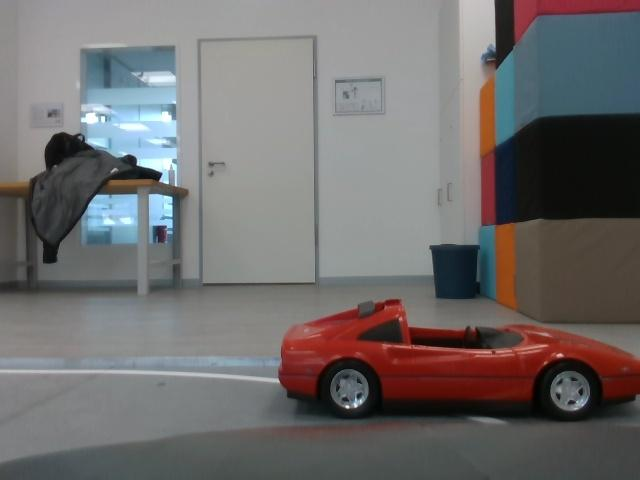car: (274, 290, 640, 425)
